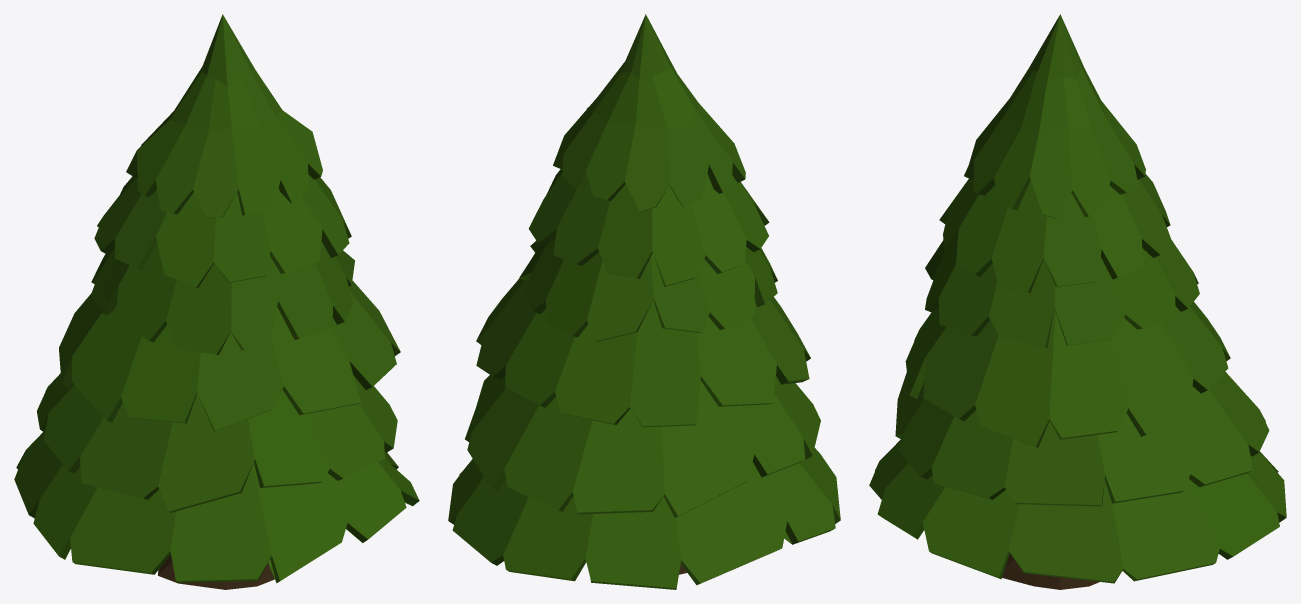
Rendered from folliage9.glb.
3 views of the same model, side by side, from view 1: azimuth 30°, elevation 25°; view 2: azimuth 150°, elevation 25°; view 3: azimuth 270°, elevation 25° (orthographic).
Parts seen in each view (by area): view 1: LowPoly Tree 07.029; view 2: LowPoly Tree 07.029; view 3: LowPoly Tree 07.029.
Part boxes in pixels (box(x1,y1,x2,y2)): LowPoly Tree 07.029: box(14, 14, 419, 589); LowPoly Tree 07.029: box(448, 14, 840, 589); LowPoly Tree 07.029: box(869, 14, 1286, 589).
Bounding box in the file's own units: 1.33 × 2.04 × 1.41.
